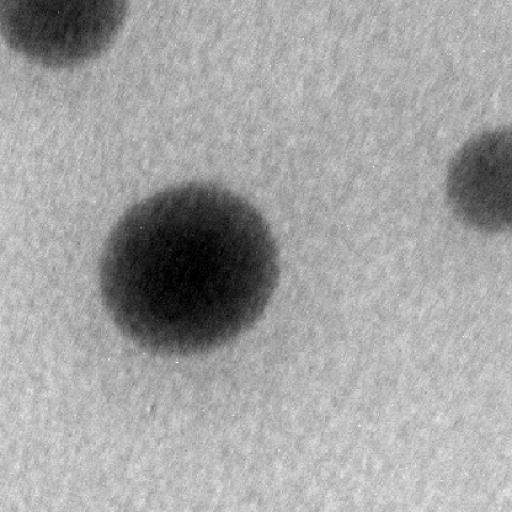Nanoparticles: (99, 180, 282, 352), (2, 1, 128, 67), (445, 124, 512, 233)
